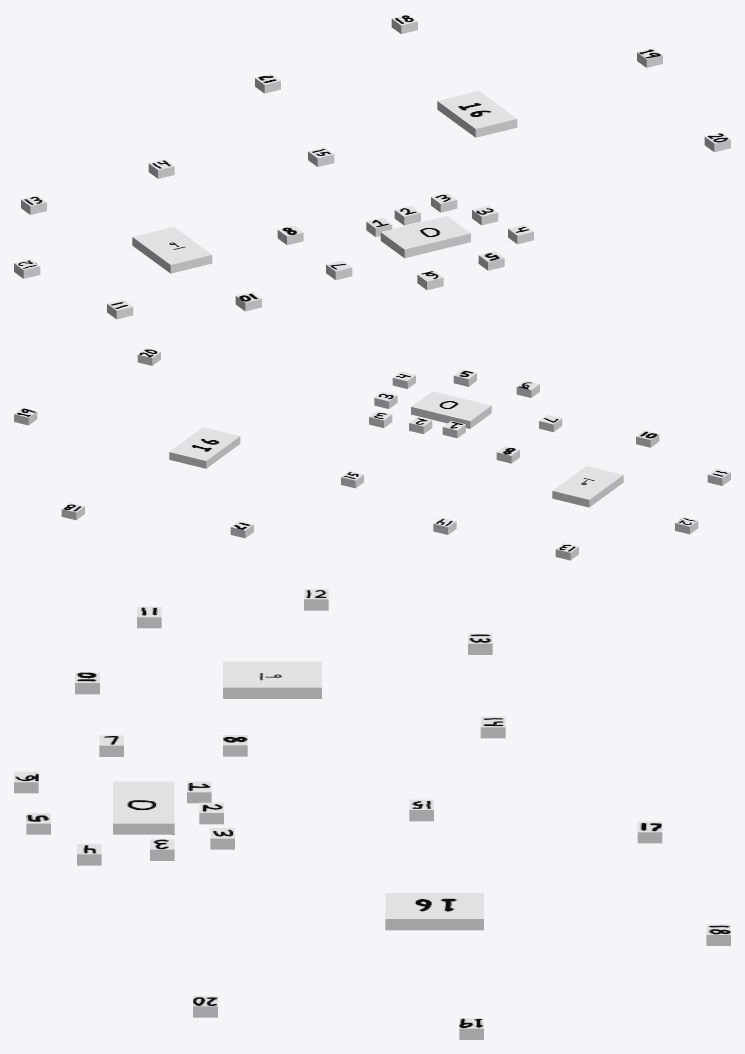
Rendered from jumptest_lvl.glb.
3 renders of one model, top to bottom at view 1: azimuth 30°, elevation 25°; view 2: azimuth 150°, elevation 25°; view 3: azimuth 270°, elevation 25°, orthographic. The views are drawn at different scales.
Visible parts, largest first — view 1: mesh4; view 2: mesh4; view 3: mesh4.
Part boxes in pixels (<box>): mesh4: <box>14,14,730,319</box>; mesh4: <box>14,348,730,560</box>; mesh4: <box>14,589,730,1039</box>.
Bounding box in the file's own units: 84.17 × 1 × 58.
1 material, 1 textured.
